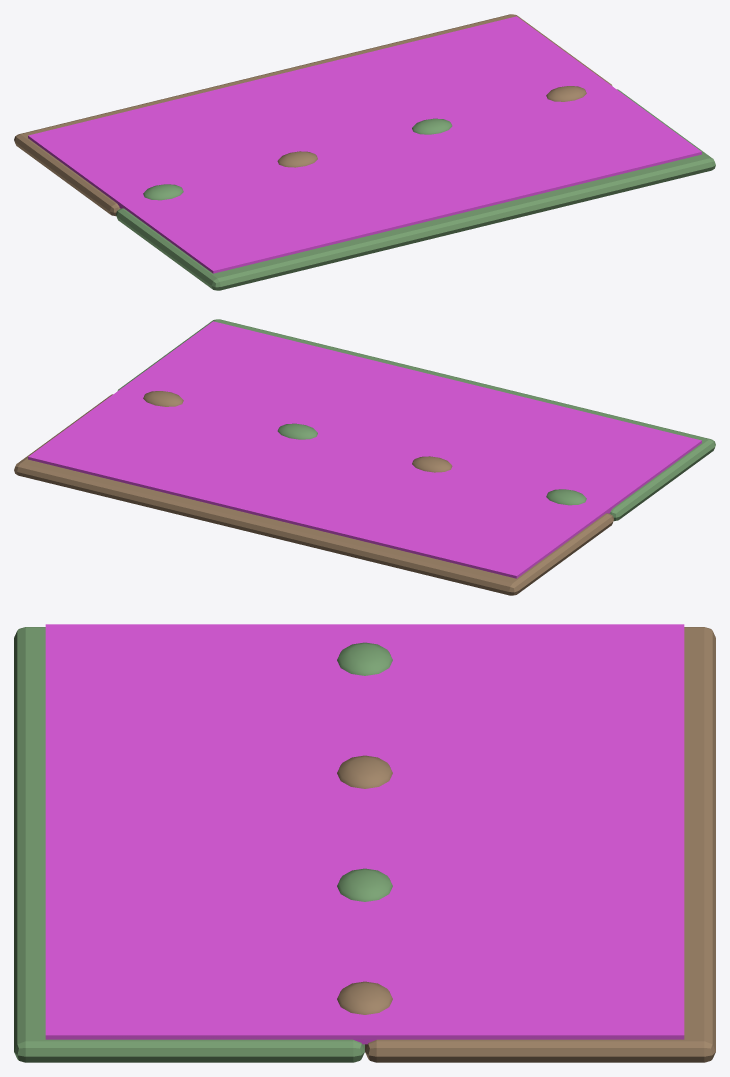
3 renders of one model, top to bottom at view 1: azimuth 30°, elevation 25°; view 2: azimuth 150°, elevation 25°; view 3: azimuth 270°, elevation 25°, orthographic. The views are drawn at different scales.
Parts seen in each view (by area): view 1: NAV_MASK_TRANSITION_GRASS_DIRT, LOD1_TRANSITION_GRASS_DIRT_A, LOD1_TRANSITION_GRASS_DIRT_B, LOD1_TRANSITION_GRASS_DIRT_Blend_02, LOD1_TRANSITION_GRASS_DIRT_Blend_03, LOD1_TRANSITION_GRASS_DIRT_Blend_01, LOD1_TRANSITION_GRASS_DIRT_Blend_04; view 2: NAV_MASK_TRANSITION_GRASS_DIRT, LOD1_TRANSITION_GRASS_DIRT_B, LOD1_TRANSITION_GRASS_DIRT_A, LOD1_TRANSITION_GRASS_DIRT_Blend_02, LOD1_TRANSITION_GRASS_DIRT_Blend_03, LOD1_TRANSITION_GRASS_DIRT_Blend_01, LOD1_TRANSITION_GRASS_DIRT_Blend_04; view 3: NAV_MASK_TRANSITION_GRASS_DIRT, LOD1_TRANSITION_GRASS_DIRT_A, LOD1_TRANSITION_GRASS_DIRT_B, LOD1_TRANSITION_GRASS_DIRT_Blend_04, LOD1_TRANSITION_GRASS_DIRT_Blend_01, LOD1_TRANSITION_GRASS_DIRT_Blend_02, LOD1_TRANSITION_GRASS_DIRT_Blend_03.
Part boxes in pixels (x1,y1,x2,y2): NAV_MASK_TRANSITION_GRASS_DIRT: (28, 16, 701, 273); LOD1_TRANSITION_GRASS_DIRT_A: (116, 89, 715, 290); LOD1_TRANSITION_GRASS_DIRT_B: (14, 14, 612, 216); LOD1_TRANSITION_GRASS_DIRT_Blend_02: (277, 151, 317, 167); LOD1_TRANSITION_GRASS_DIRT_Blend_03: (412, 118, 452, 134); LOD1_TRANSITION_GRASS_DIRT_Blend_01: (143, 184, 183, 200); LOD1_TRANSITION_GRASS_DIRT_Blend_04: (546, 86, 586, 101); NAV_MASK_TRANSITION_GRASS_DIRT: (28, 321, 701, 578); LOD1_TRANSITION_GRASS_DIRT_B: (14, 394, 613, 595); LOD1_TRANSITION_GRASS_DIRT_A: (117, 319, 715, 521); LOD1_TRANSITION_GRASS_DIRT_Blend_02: (412, 456, 452, 472); LOD1_TRANSITION_GRASS_DIRT_Blend_03: (277, 423, 317, 439); LOD1_TRANSITION_GRASS_DIRT_Blend_01: (546, 489, 586, 505); LOD1_TRANSITION_GRASS_DIRT_Blend_04: (143, 391, 183, 406); NAV_MASK_TRANSITION_GRASS_DIRT: (45, 624, 684, 1044); LOD1_TRANSITION_GRASS_DIRT_A: (14, 627, 364, 1062); LOD1_TRANSITION_GRASS_DIRT_B: (365, 627, 715, 1062); LOD1_TRANSITION_GRASS_DIRT_Blend_04: (337, 981, 392, 1014); LOD1_TRANSITION_GRASS_DIRT_Blend_01: (337, 642, 392, 675); LOD1_TRANSITION_GRASS_DIRT_Blend_02: (337, 755, 392, 788); LOD1_TRANSITION_GRASS_DIRT_Blend_03: (337, 868, 392, 901).
Size of what is drawn, in the model's own units: 6 by 0.23 by 4.2.
